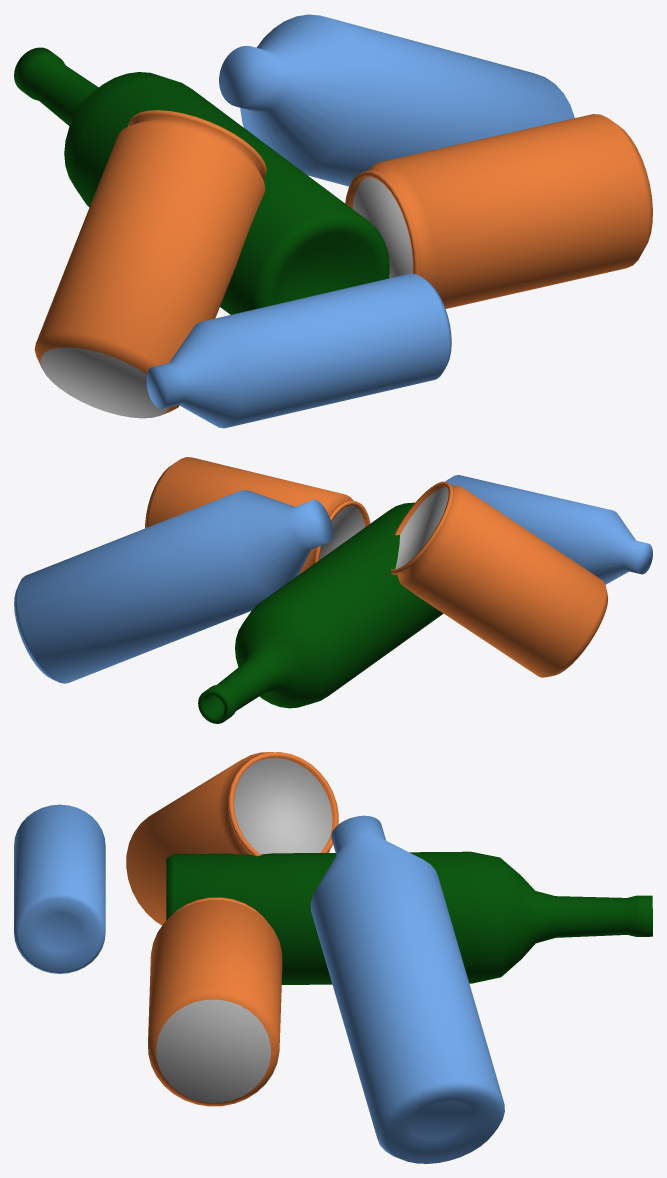
Rendered from tas de déchets.fbx.
3 views of the same model, one above another, from view 1: azimuth 30°, elevation 25°; view 2: azimuth 150°, elevation 25°; view 3: azimuth 270°, elevation 25° (orthographic). The views are drawn at different scales.
Visible parts, largest first — view 1: 01 Déchet 01.001; view 2: 01 Déchet 01.001; view 3: 01 Déchet 01.001.
Part boxes in pixels (x1,y1,x2,y2): 01 Déchet 01.001: [14, 14, 652, 428]; 01 Déchet 01.001: [14, 457, 652, 723]; 01 Déchet 01.001: [14, 752, 652, 1163].
Size of the model in its own units: 9.53 by 4 by 9.69.
